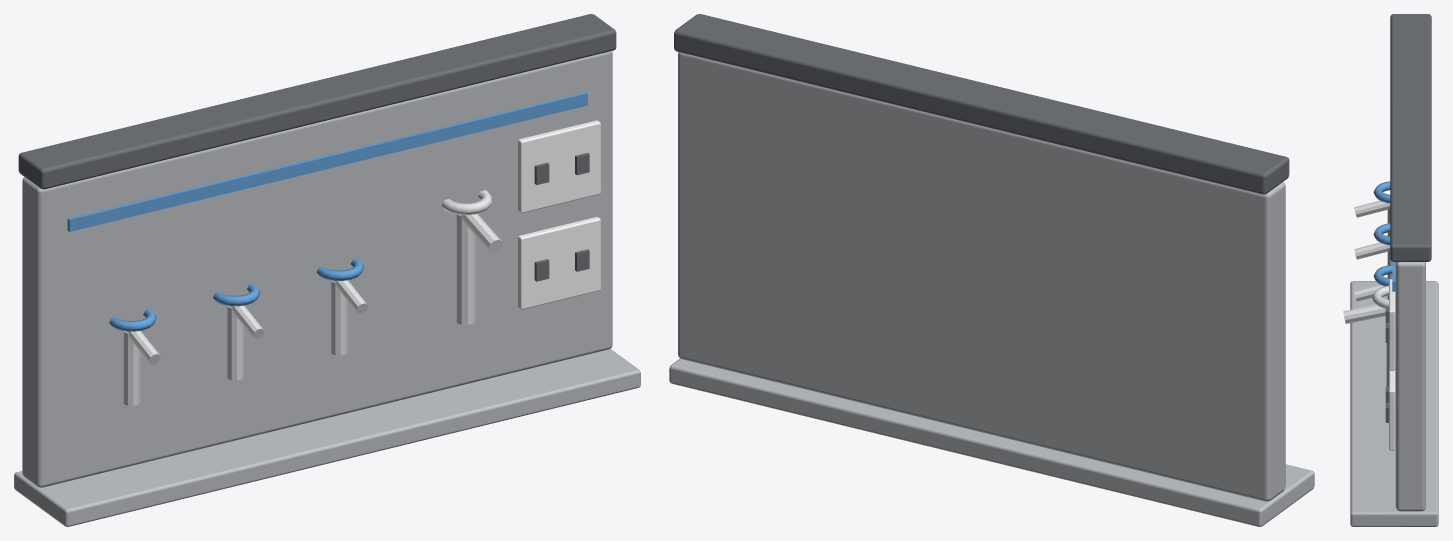
The model's file is gas-tap-service-spine.glb.
3 renders of one model, left to right at view 1: azimuth 30°, elevation 25°; view 2: azimuth 150°, elevation 25°; view 3: azimuth 270°, elevation 25°, orthographic. The views are drawn at different scales.
Visible parts, largest first — view 1: gas-tap-service-spine; view 2: gas-tap-service-spine; view 3: gas-tap-service-spine.
Boxes of the visible parts, box(x1,y1,x2,y2) form: gas-tap-service-spine: box(14, 14, 640, 526); gas-tap-service-spine: box(669, 14, 1314, 526); gas-tap-service-spine: box(1343, 14, 1438, 526).
Size of the model in its own units: 1 by 0.565 by 0.1725.
